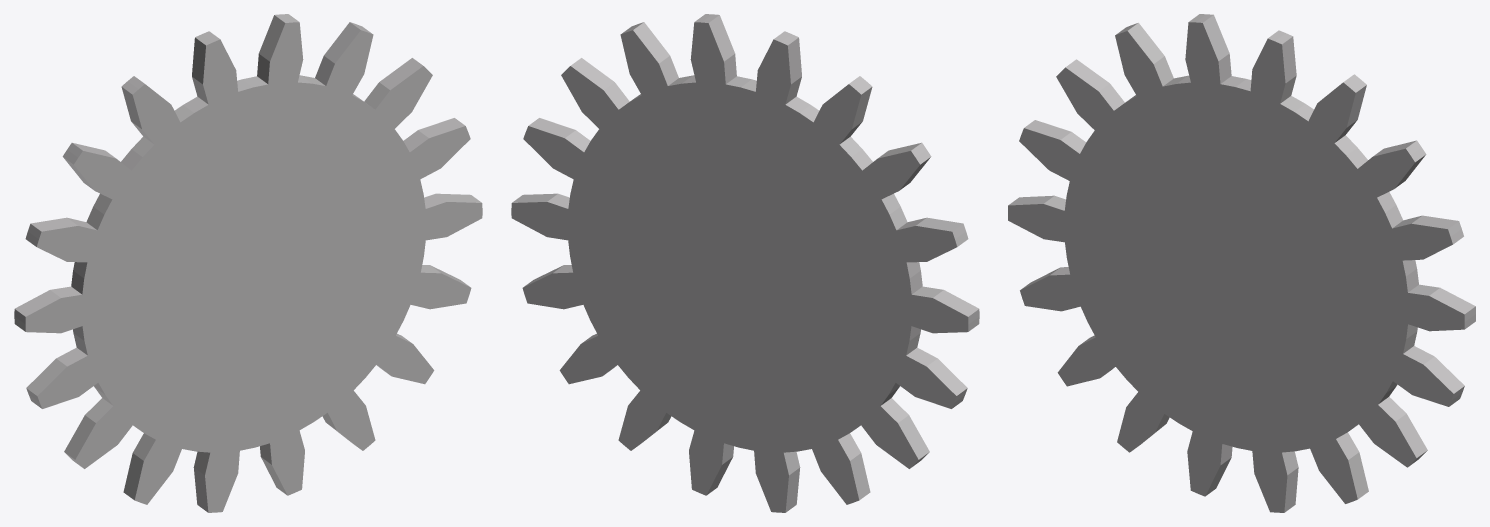
Rendered from Gear.fbx.
3 renders of one model, left to right at view 1: azimuth 30°, elevation 25°; view 2: azimuth 150°, elevation 25°; view 3: azimuth 330°, elevation 25°, orthographic.
Visible parts, largest first — view 1: Cylinder.033; view 2: Cylinder.033; view 3: Cylinder.033.
Boxes of the visible parts, x1,y1,x2,y2 form: Cylinder.033: (14, 14, 482, 512); Cylinder.033: (511, 14, 979, 512); Cylinder.033: (1008, 14, 1475, 512).
Size of the model in its own units: 289 by 286 by 12.25.
1 material, 1 textured.
